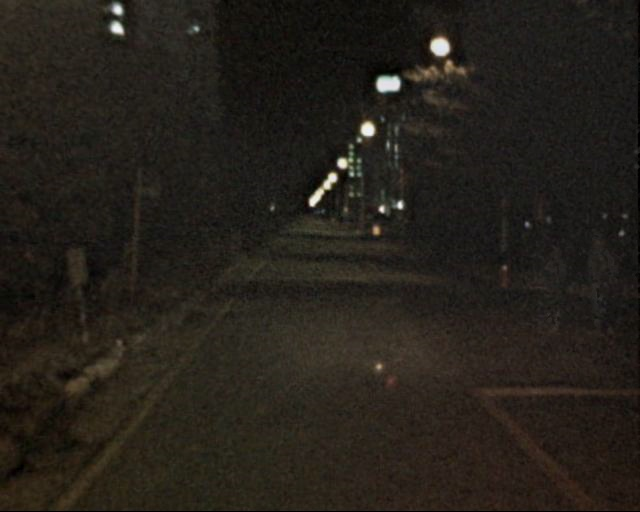person: (579, 228, 617, 336), (536, 242, 575, 339)
